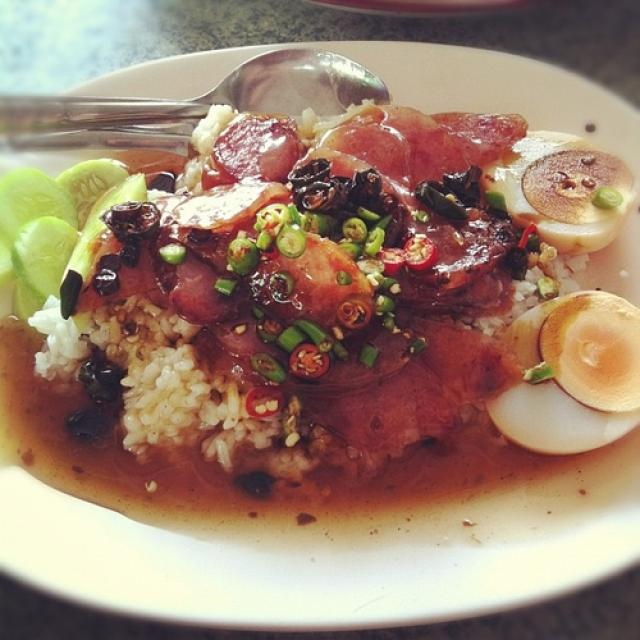猪肉菜式: (15, 35, 617, 608)
